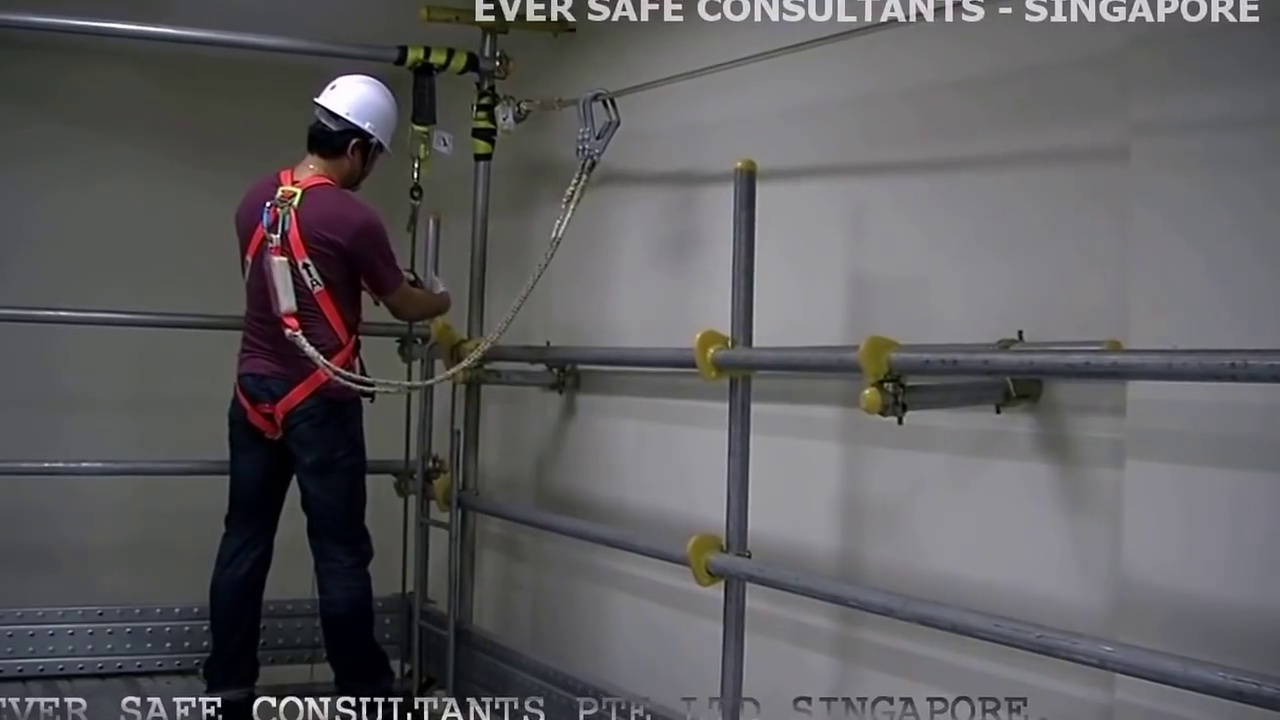harness: (241, 182, 355, 443)
helmet: (308, 67, 398, 149)
hook: (572, 90, 625, 167)
leash: (449, 195, 572, 385)
